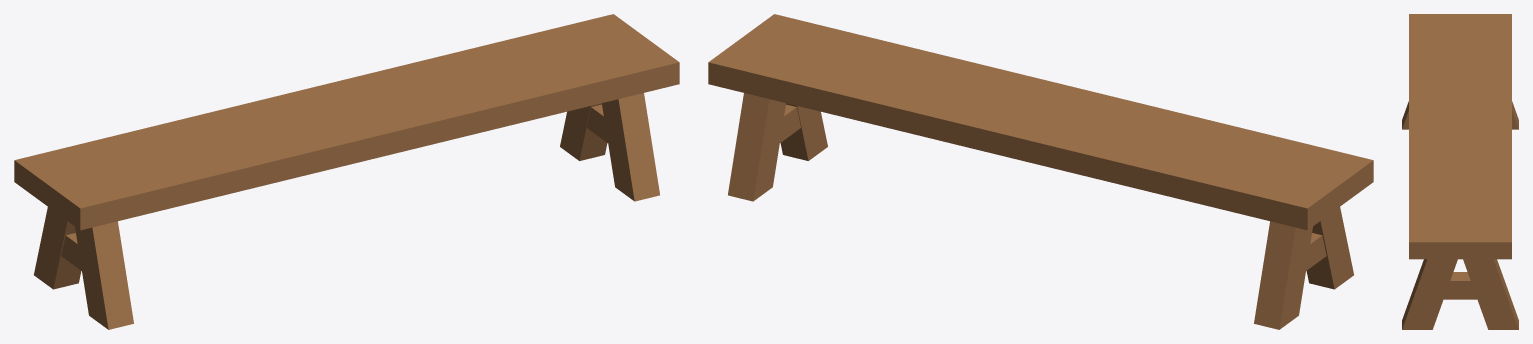
The model's file is Bench.fbx.
The picture shows the model from 3 angles, left to right: view 1: azimuth 30°, elevation 25°; view 2: azimuth 150°, elevation 25°; view 3: azimuth 270°, elevation 25°; orthographic projection. The views are drawn at different scales.
Parts seen in each view (by area): view 1: Bench; view 2: Bench; view 3: Bench.
Part boxes in pixels (bbox=[...]): Bench: bbox=[14, 14, 679, 329]; Bench: bbox=[708, 14, 1373, 329]; Bench: bbox=[1402, 14, 1518, 329].
Bounding box in the file's own units: 1440 × 285 × 312.
